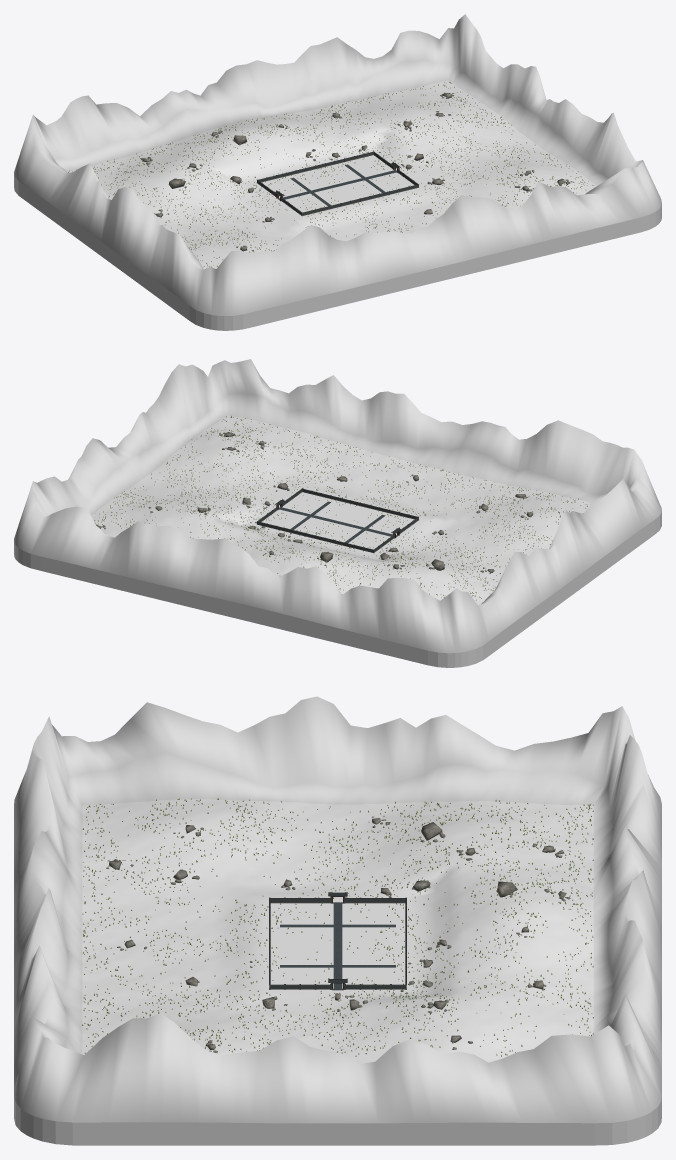
File: RollingHills_LOD2.fbx
3 views of the same model, one above another, from view 1: azimuth 30°, elevation 25°; view 2: azimuth 150°, elevation 25°; view 3: azimuth 270°, elevation 25° (orthographic). The views are drawn at different scales.
Visible parts, largest first — view 1: Mountains_Ring_LOD2, Terrain_09_LOD2, Terrain_07_LOD2, Terrain_10_LOD2, Terrain_06_LOD2, Terrain_05_LOD2, Terrain_04_LOD2, Terrain_11_LOD2, Terrain_08_LOD2, Terrain_03_LOD2, Terrain_02_LOD2, Terrain_01_LOD2 (+5 smaller); view 2: Mountains_Ring_LOD2, Terrain_02_LOD2, Terrain_03_LOD2, Terrain_01_LOD2, Terrain_07_LOD2, Terrain_06_LOD2, Terrain_05_LOD2, Terrain_04_LOD2, Terrain_00_LOD2, Terrain_09_LOD2, Terrain_11_LOD2, Terrain_10_LOD2 (+5 smaller); view 3: Mountains_Ring_LOD2, Terrain_01_LOD2, Terrain_10_LOD2, Terrain_00_LOD2, Terrain_04_LOD2, Terrain_09_LOD2, Terrain_02_LOD2, Terrain_05_LOD2, Terrain_06_LOD2, Terrain_08_LOD2, Terrain_11_LOD2, Terrain_07_LOD2 (+12 smaller).
Part boxes in pixels (bbox=[...]): Mountains_Ring_LOD2: bbox=[14, 14, 661, 330]; Terrain_09_LOD2: bbox=[158, 119, 309, 181]; Terrain_07_LOD2: bbox=[407, 119, 558, 181]; Terrain_10_LOD2: bbox=[254, 101, 406, 164]; Terrain_06_LOD2: bbox=[310, 132, 462, 206]; Terrain_05_LOD2: bbox=[213, 164, 365, 230]; Terrain_04_LOD2: bbox=[142, 181, 268, 246]; Terrain_11_LOD2: bbox=[351, 80, 503, 131]; Terrain_08_LOD2: bbox=[67, 147, 212, 202]; Terrain_03_LOD2: bbox=[463, 159, 596, 210]; Terrain_02_LOD2: bbox=[366, 182, 483, 233]; Terrain_01_LOD2: bbox=[269, 206, 393, 242]; Mountains_Ring_LOD2: bbox=[14, 359, 661, 667]; Terrain_02_LOD2: bbox=[269, 439, 421, 502]; Terrain_03_LOD2: bbox=[172, 415, 324, 477]; Terrain_01_LOD2: bbox=[366, 465, 518, 526]; Terrain_07_LOD2: bbox=[116, 455, 268, 509]; Terrain_06_LOD2: bbox=[213, 478, 365, 542]; Terrain_05_LOD2: bbox=[310, 502, 462, 559]; Terrain_04_LOD2: bbox=[407, 527, 550, 587]; Terrain_00_LOD2: bbox=[463, 487, 593, 544]; Terrain_09_LOD2: bbox=[264, 542, 405, 594]; Terrain_11_LOD2: bbox=[91, 497, 212, 537]; Terrain_10_LOD2: bbox=[184, 510, 309, 567]; Mountains_Ring_LOD2: bbox=[14, 696, 661, 1145]; Terrain_01_LOD2: bbox=[82, 875, 252, 952]; Terrain_10_LOD2: bbox=[423, 926, 593, 1019]; Terrain_00_LOD2: bbox=[82, 799, 252, 877]; Terrain_04_LOD2: bbox=[252, 800, 423, 877]; Terrain_09_LOD2: bbox=[423, 857, 593, 945]; Terrain_02_LOD2: bbox=[82, 947, 252, 1020]; Terrain_05_LOD2: bbox=[252, 863, 423, 946]; Terrain_06_LOD2: bbox=[252, 945, 423, 1018]; Terrain_08_LOD2: bbox=[423, 801, 593, 873]; Terrain_11_LOD2: bbox=[423, 1002, 593, 1062]; Terrain_07_LOD2: bbox=[252, 1004, 423, 1063].
Bounding box in the file's own units: 48000 × 7859 × 38000.
